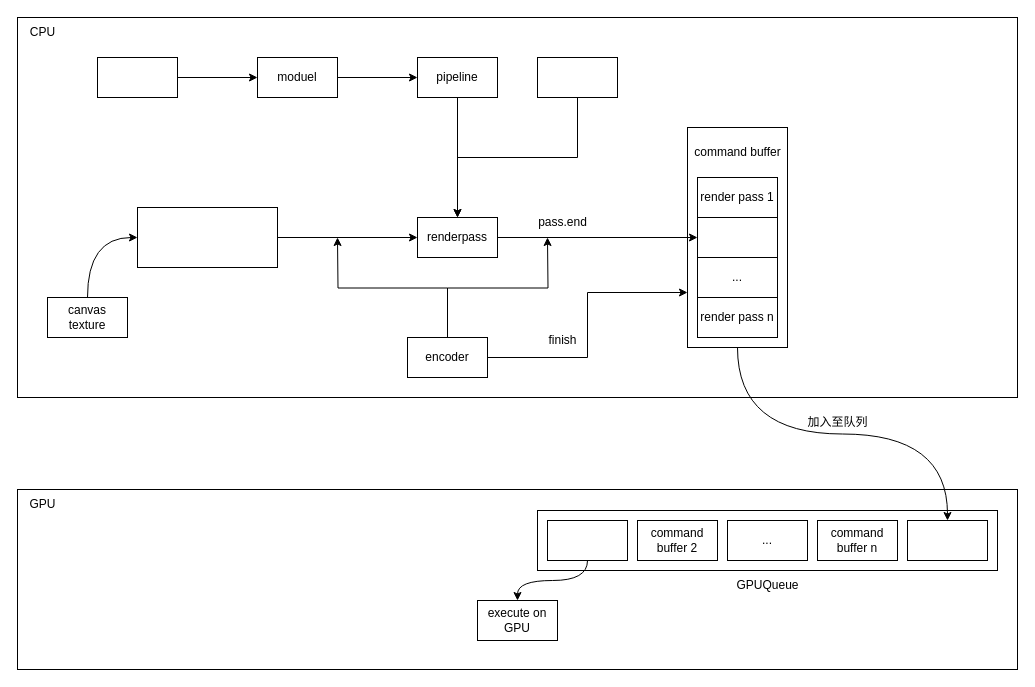
Image size: 1035x687. Some labels were removed from this diagram. Each missing label, with the centre of its shape:
color attachment depth attachment stencil attachment: the point at 207,237
command buffer 1: the point at 587,540
draw or ...: the point at 577,77
render pass 2: the point at 737,237
shader code: the point at 137,77
this command buffer: the point at 947,540
